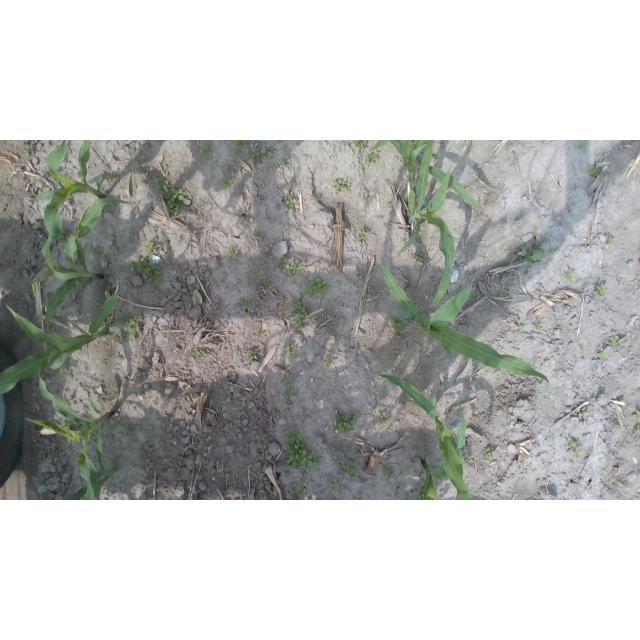Maize: (379, 248, 553, 390), (1, 272, 122, 397), (368, 372, 472, 500), (36, 195, 132, 329), (25, 365, 115, 500), (38, 140, 107, 282), (368, 140, 489, 214), (398, 163, 455, 309), (420, 400, 466, 500), (62, 465, 121, 500)
Weeds: (281, 427, 320, 474), (154, 180, 186, 217), (290, 298, 322, 330), (133, 257, 163, 286), (332, 456, 361, 483), (302, 278, 333, 299), (122, 316, 144, 343), (335, 412, 360, 434), (280, 256, 304, 277), (520, 248, 545, 265), (567, 438, 585, 458), (609, 332, 628, 348), (333, 178, 351, 194), (248, 148, 263, 165), (144, 238, 159, 254), (55, 228, 69, 244), (413, 249, 428, 263), (391, 318, 405, 333), (284, 342, 297, 358), (380, 466, 397, 478), (482, 446, 496, 460), (377, 412, 392, 425), (329, 480, 342, 495), (593, 284, 607, 297), (90, 248, 104, 261), (596, 347, 609, 360), (60, 418, 73, 431), (295, 486, 307, 500), (367, 150, 378, 165), (352, 140, 368, 150), (194, 348, 207, 360), (588, 165, 601, 177), (285, 196, 297, 209), (106, 419, 117, 433), (228, 246, 239, 259), (232, 140, 249, 148), (220, 178, 232, 189), (606, 235, 617, 246), (415, 487, 424, 500), (60, 365, 69, 378), (272, 159, 285, 168), (563, 271, 573, 282), (359, 228, 368, 240), (241, 296, 250, 308), (284, 388, 297, 396), (108, 172, 119, 181), (200, 144, 211, 153), (259, 276, 270, 285), (632, 410, 640, 422), (516, 319, 524, 331), (248, 352, 258, 361), (64, 396, 73, 405), (535, 323, 543, 332), (634, 425, 640, 436), (124, 428, 133, 435), (579, 143, 589, 149), (73, 424, 81, 431), (325, 359, 332, 367), (172, 292, 182, 297), (273, 411, 280, 418), (357, 496, 365, 501), (26, 145, 31, 153), (119, 336, 124, 344), (316, 196, 321, 203), (512, 281, 517, 287), (235, 211, 241, 216), (80, 282, 85, 288), (466, 396, 470, 403), (292, 184, 297, 189), (452, 292, 457, 297), (436, 283, 440, 289), (258, 331, 263, 335), (255, 232, 259, 237), (284, 377, 289, 381), (336, 372, 339, 377)
